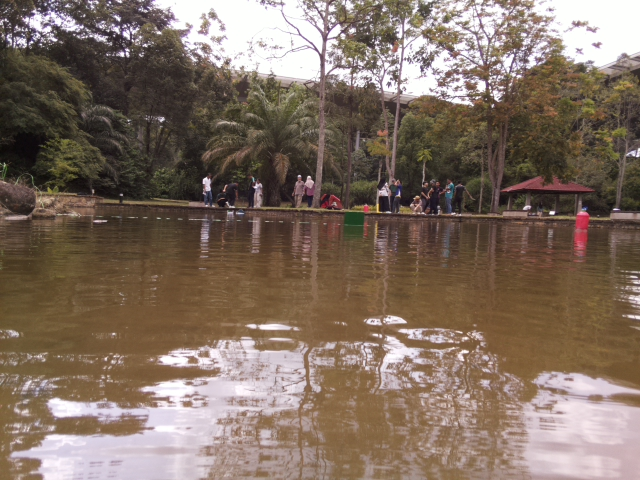obstacle: (343, 211, 364, 225)
